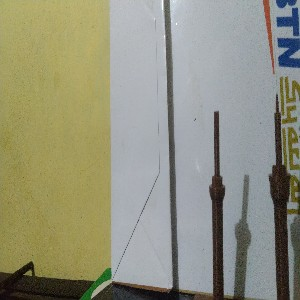obeng: (208, 109, 226, 300)
solder: (267, 92, 293, 300)
